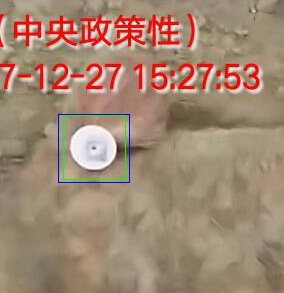text: (63, 115, 125, 179)
